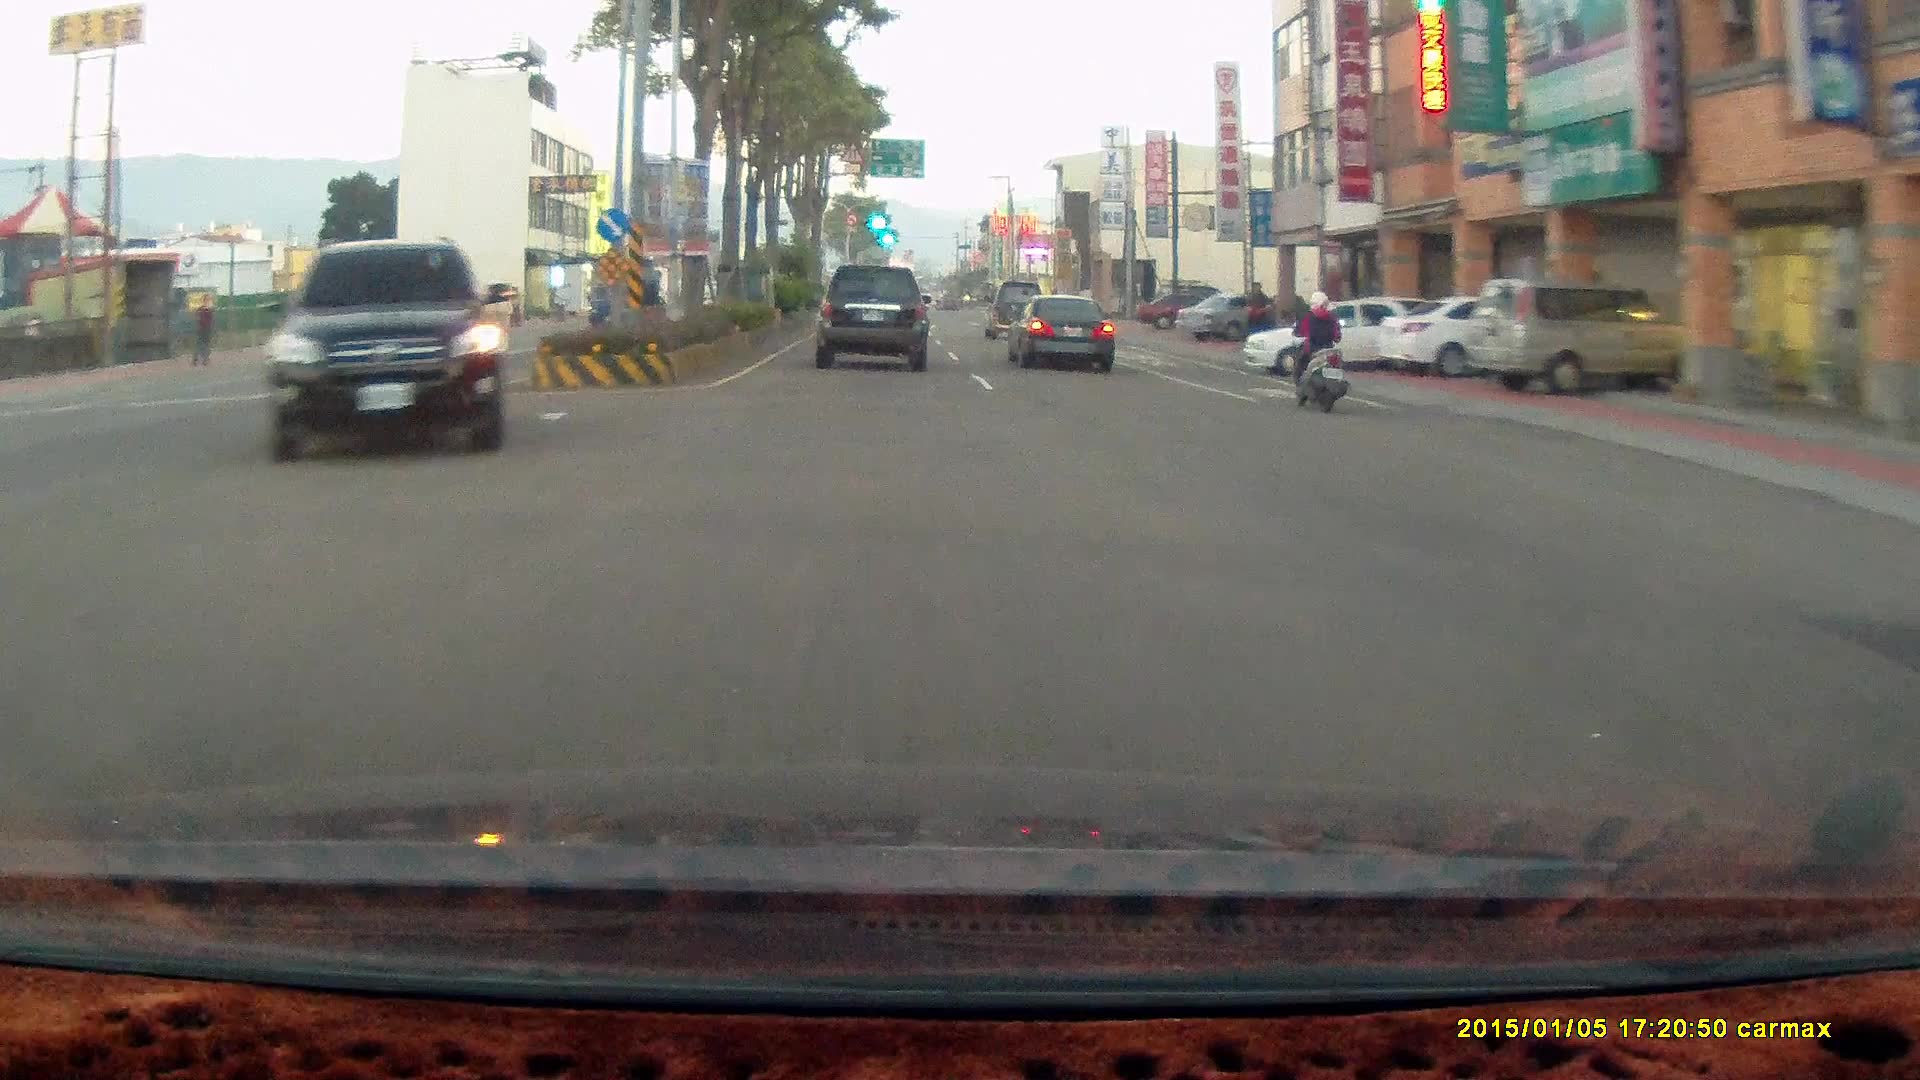pedestrian: (1242, 281, 1271, 350), (191, 291, 215, 365)
rider: (1277, 283, 1357, 418), (1286, 290, 1350, 414)
vehicle: (255, 237, 518, 461), (270, 234, 513, 464), (1461, 277, 1707, 393), (1466, 280, 1686, 402), (1373, 296, 1581, 383), (1374, 294, 1583, 380), (1246, 302, 1442, 379), (1241, 295, 1423, 375), (812, 263, 935, 375), (813, 263, 930, 369), (1007, 295, 1126, 372), (1005, 290, 1113, 371), (1174, 293, 1283, 340), (1175, 290, 1284, 338), (981, 280, 1048, 339), (1134, 289, 1225, 327)
